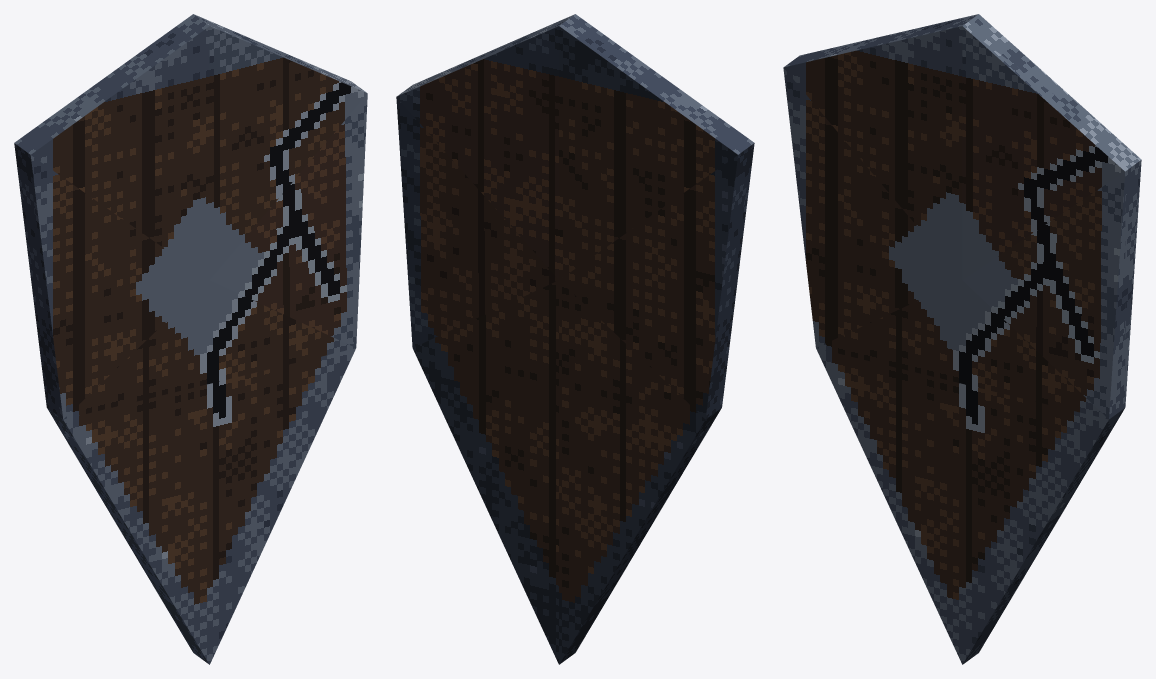
The model's file is SM_Prop_CrackedShield_01.glb.
The picture shows the model from 3 angles, left to right: view 1: azimuth 30°, elevation 25°; view 2: azimuth 150°, elevation 25°; view 3: azimuth 330°, elevation 25°; orthographic projection.
Visible parts, largest first — view 1: shield; view 2: shield; view 3: shield.
Boxes of the visible parts, x1=… form: shield: x1=14, y1=14, x2=367, y2=664; shield: x1=396, y1=14, x2=754, y2=664; shield: x1=783, y1=14, x2=1141, y2=664.
Size of the model in its own units: 0.417 by 0.75 by 0.04.
Materials: 1 (1 with a texture image).
